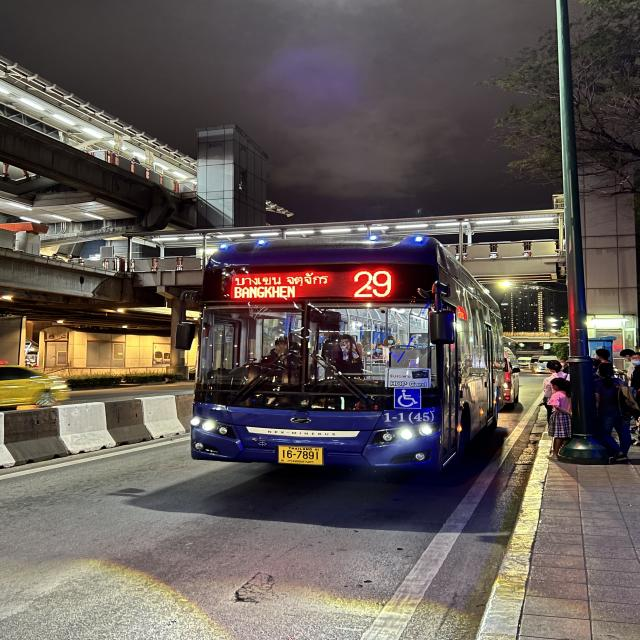Bus Line Number: (342, 268, 404, 300)
Bus Side Number: (380, 408, 441, 426)
Destination Sign: (220, 267, 335, 303)
TSB-Bus: (188, 237, 509, 474)
